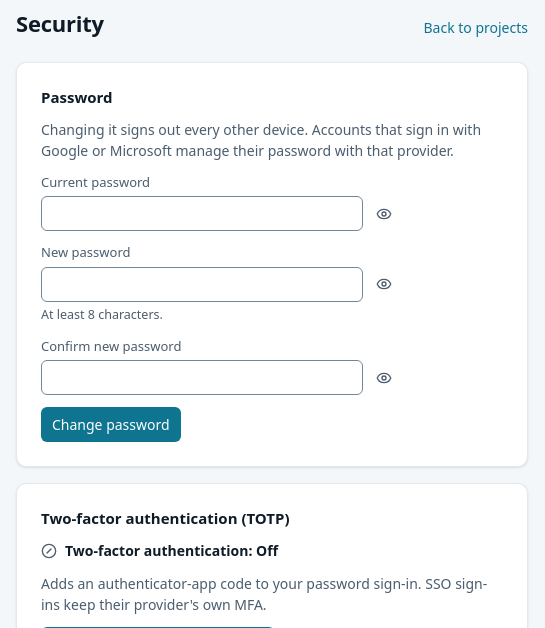
Test: a wrong current password is reported next to the form
This screenshot has width=545, height=628.
Type "nope-nope-nope" into the password field labelled "Current password" at {"x": 202, "y": 214}, box [41, 196, 363, 231]
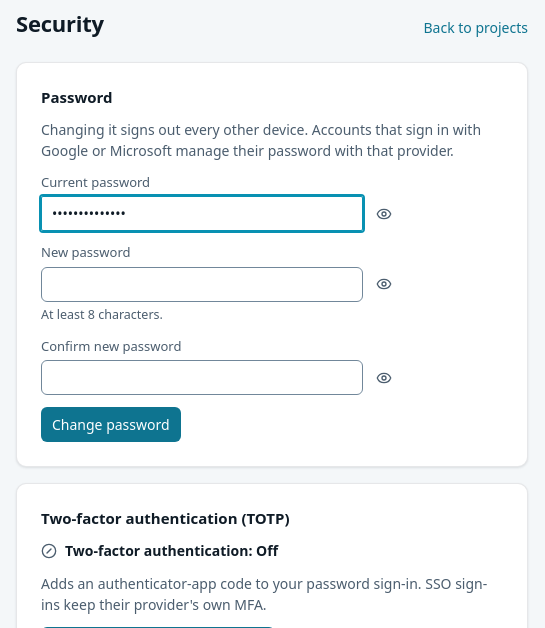
Type "new-password-22" into the password field labelled "New password" at {"x": 202, "y": 284}, box [41, 267, 363, 302]
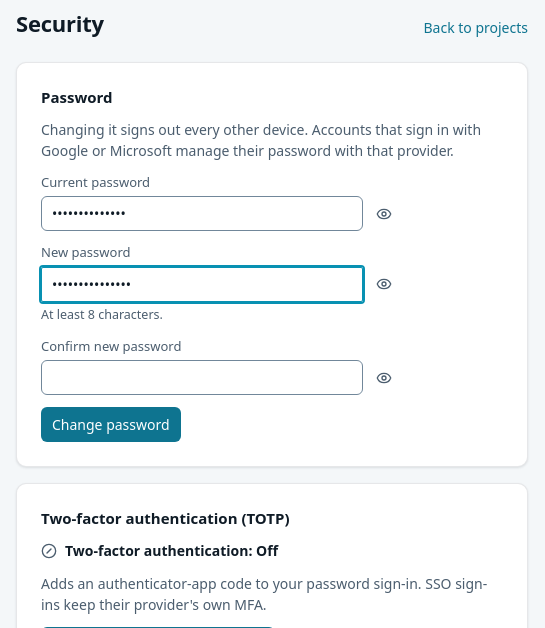
Type "new-password-22" into the password field labelled "Confirm new password" at {"x": 202, "y": 378}, box [41, 360, 363, 395]
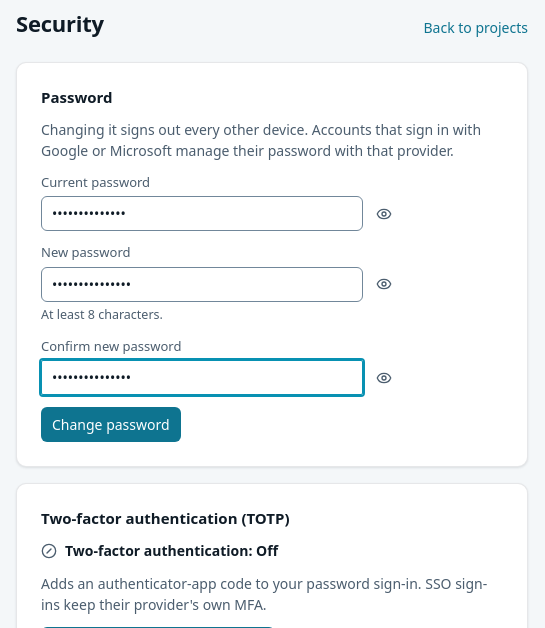
Click the button "Change password" at {"x": 111, "y": 424}, box [41, 407, 181, 442]
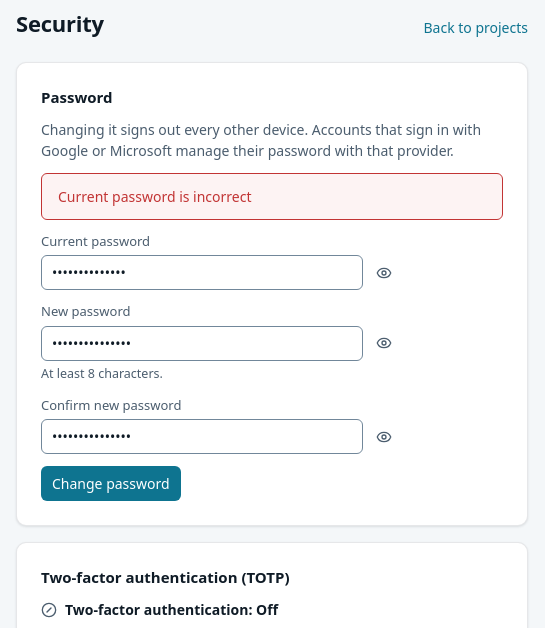
expect the text "Current password is incorrect" is shown: met, box [58, 186, 252, 207]
